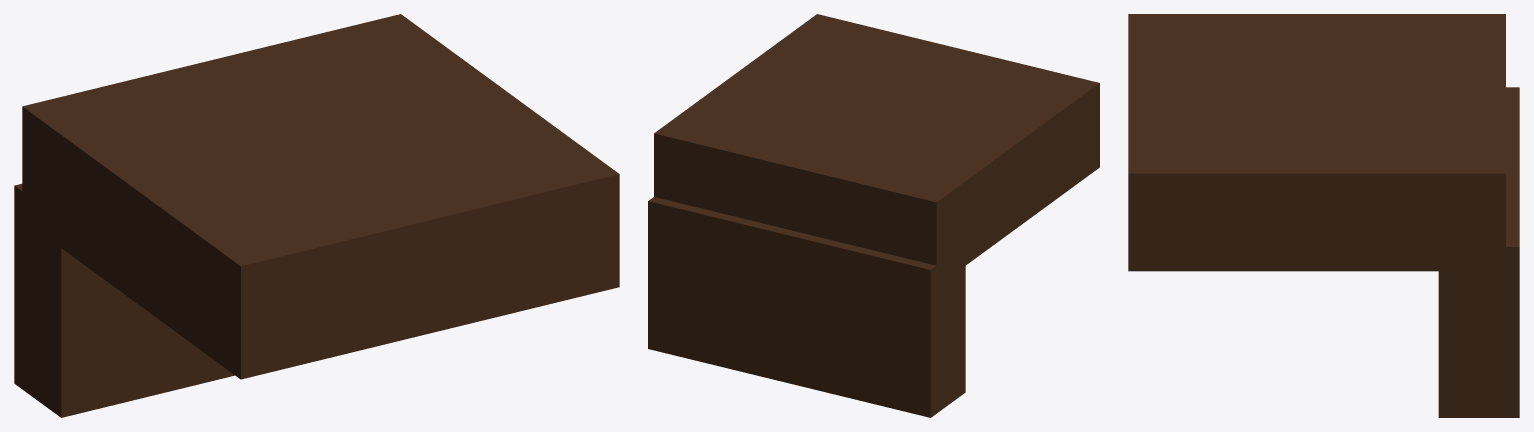
File: hair_short.glb
3 views of the same model, side by side, from view 1: azimuth 30°, elevation 25°; view 2: azimuth 150°, elevation 25°; view 3: azimuth 270°, elevation 25° (orthographic). The views are drawn at different scales.
Visible parts, largest first — view 1: hair_top, hair_back; view 2: hair_top, hair_back; view 3: hair_top, hair_back.
Part boxes in pixels (x1=…): hair_top: x1=22, y1=14, x2=619, y2=379; hair_back: x1=14, y1=184, x2=234, y2=417; hair_top: x1=654, y1=14, x2=1099, y2=286; hair_back: x1=648, y1=197, x2=965, y2=417; hair_top: x1=1128, y1=14, x2=1505, y2=271; hair_back: x1=1438, y1=87, x2=1519, y2=417.
Size of the model in its own units: 0.28 by 0.2 by 0.29.
